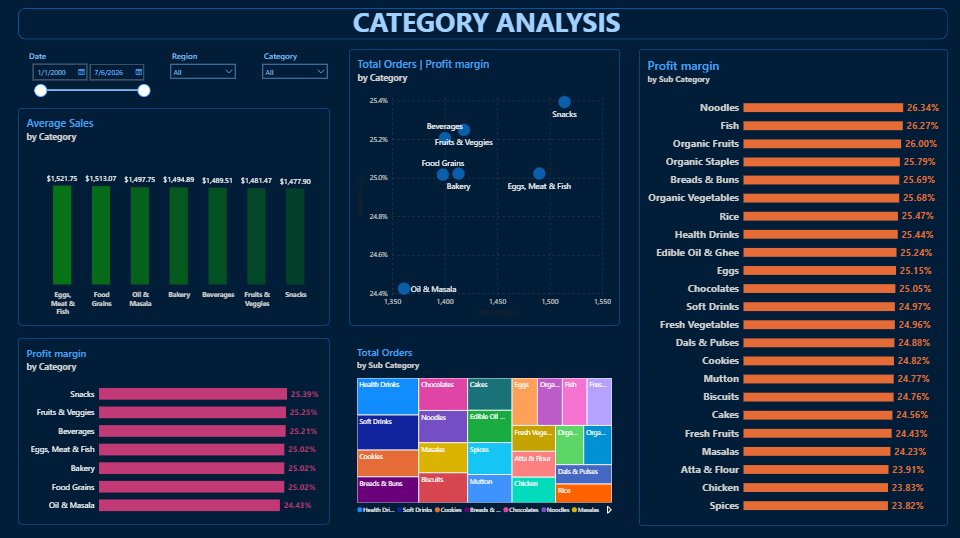

What the dashboard file says about the page in this screenshot:
{"tool":"powerbi","page":{"name":"Category Analysis","canvas":[1920,1080],"ordinal":2},"visuals":[{"type":"shape","box":[36.4,16.2,1859.4,62.7],"z":0},{"type":"textbox","box":[77.1,5.3,1790.7,78.8],"z":1000},{"type":"slicer","title":"Date","fields":{"Values":["Calendar.Date"]},"box":[58.1,99.1,246.1,105.9],"z":2000},{"type":"slicer","title":"Region","fields":{"Values":["Supermart Grocery Sales.Category"]},"box":[519.5,99.1,140.1,78.6],"z":3000},{"type":"clusteredBarChart","fields":{"Category":["Supermart Grocery Sales.Sub Category"],"Y":["Analytics.Profit margin"]},"box":[1278,98,618,954],"z":4000},{"type":"treemap","fields":{"Group":["Supermart Grocery Sales.Sub Category"],"Values":["Analytics.Total Orders"]},"box":[698.3,676.7,541.7,373.3],"z":5000},{"type":"scatterChart","title":"Total Orders | Profit margin","fields":{"Category":["Supermart Grocery Sales.Category"],"X":["Analytics.Total Orders"],"Y":["Analytics.Profit margin"]},"box":[698.3,98.3,541.7,553.3],"z":6000},{"type":"barChart","fields":{"Category":["Supermart Grocery Sales.Category"],"Y":["Analytics.Profit margin"]},"box":[36.7,676.7,623.3,373.3],"z":7000},{"type":"clusteredColumnChart","fields":{"Category":["Supermart Grocery Sales.Category"],"Y":["Analytics.Average Sales"]},"box":[36.7,216.7,623.3,435],"z":8000},{"type":"slicer","title":"Region","fields":{"Values":["Supermart Grocery Sales.Region"]},"box":[336.6,99.1,140.1,78.6],"z":9000}]}

Visuals, with their boxes in screenshot pixels (x1, y1, x2, y2), scaled from the page's 1920x1080 canvas onto the 960x538 screenshot:
shape: bbox=(18, 8, 948, 39)
textbox: bbox=(39, 3, 934, 42)
"Date" slicer: bbox=(29, 49, 152, 102)
"Region" slicer: bbox=(260, 49, 330, 89)
clusteredBarChart - Supermart Grocery Sales.Sub Category x Analytics.Profit margin: bbox=(639, 49, 948, 524)
treemap - Supermart Grocery Sales.Sub Category x Analytics.Total Orders: bbox=(349, 337, 620, 523)
"Total Orders | Profit margin" scatterChart: bbox=(349, 49, 620, 325)
barChart - Supermart Grocery Sales.Category x Analytics.Profit margin: bbox=(18, 337, 330, 523)
clusteredColumnChart - Supermart Grocery Sales.Category x Analytics.Average Sales: bbox=(18, 108, 330, 325)
"Region" slicer: bbox=(168, 49, 238, 89)
